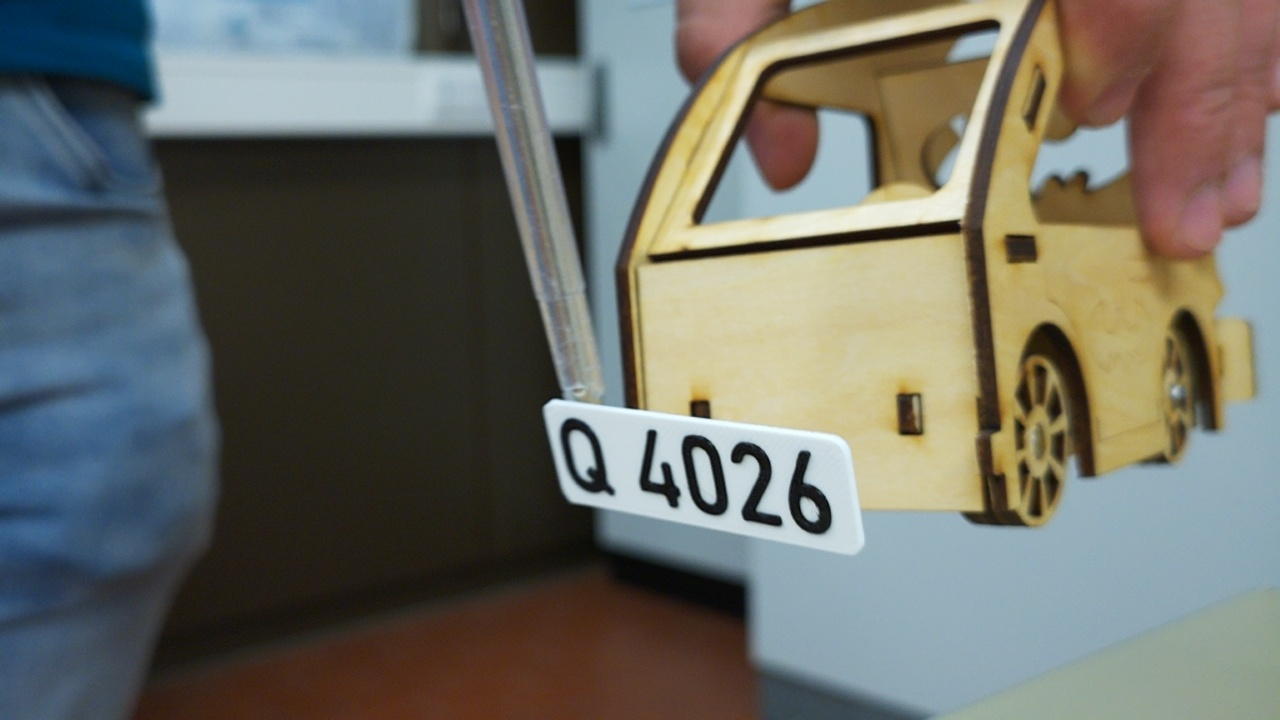license_plate: (539, 387, 870, 559)
